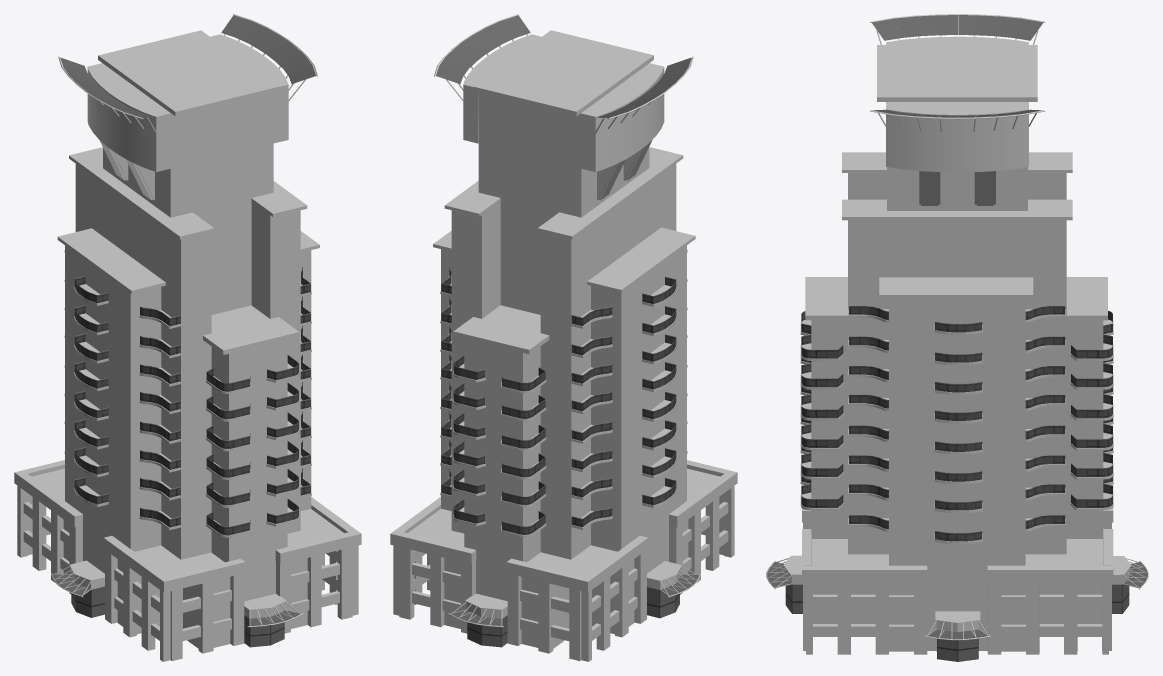
File: building-15.FBX
The picture shows the model from 3 angles, left to right: view 1: azimuth 30°, elevation 25°; view 2: azimuth 150°, elevation 25°; view 3: azimuth 270°, elevation 25°; orthographic projection. The views are drawn at different scales.
Visible parts, largest first — view 1: building-15_LOD0; view 2: building-15_LOD0; view 3: building-15_LOD0.
Part boxes in pixels (x1,y1,x2,y2): building-15_LOD0: (14,14,361,661); building-15_LOD0: (390,14,737,661); building-15_LOD0: (766,14,1148,661).
Size of what is drawn, in the model's own units: 1320 by 2559 by 1643.
